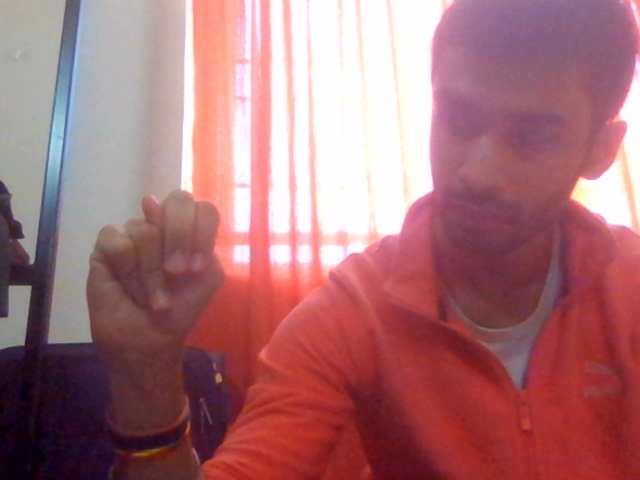N: (75, 167, 286, 445)
